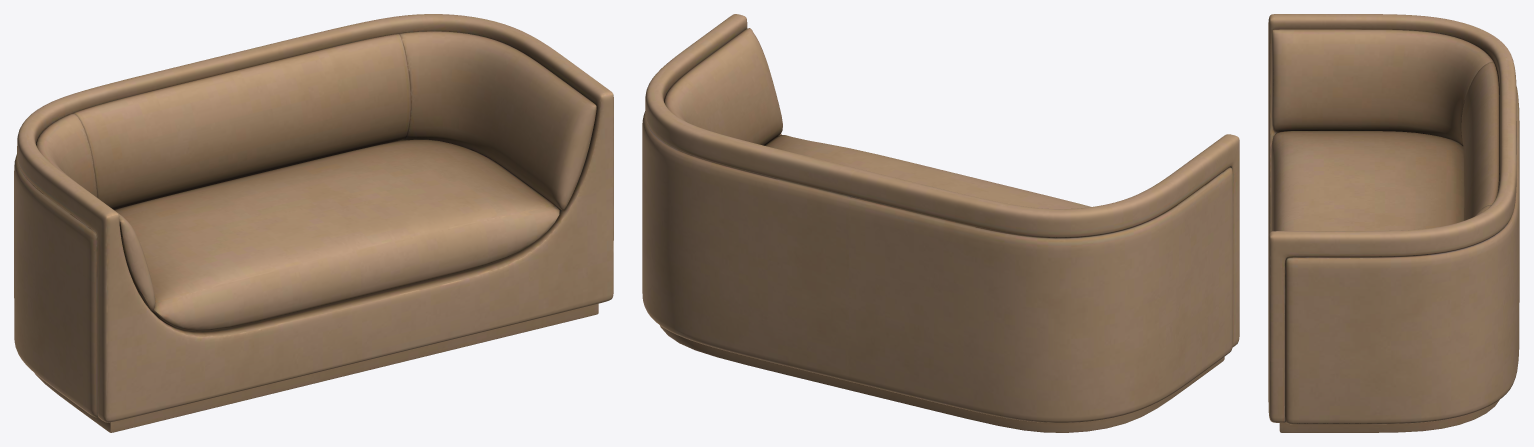
The model's file is DWDW003.glb.
3 renders of one model, left to right at view 1: azimuth 30°, elevation 25°; view 2: azimuth 150°, elevation 25°; view 3: azimuth 270°, elevation 25°, orthographic. The views are drawn at different scales.
Visible parts, largest first — view 1: sofa-036; view 2: sofa-036; view 3: sofa-036.
Boxes of the visible parts, box(x1,y1,x2,y2) form: sofa-036: box(14, 14, 613, 432); sofa-036: box(642, 14, 1239, 432); sofa-036: box(1268, 14, 1519, 432).
Size of the model in its own units: 1.92 by 0.7991 by 0.8999.
Materials: 1 (1 with a texture image).
